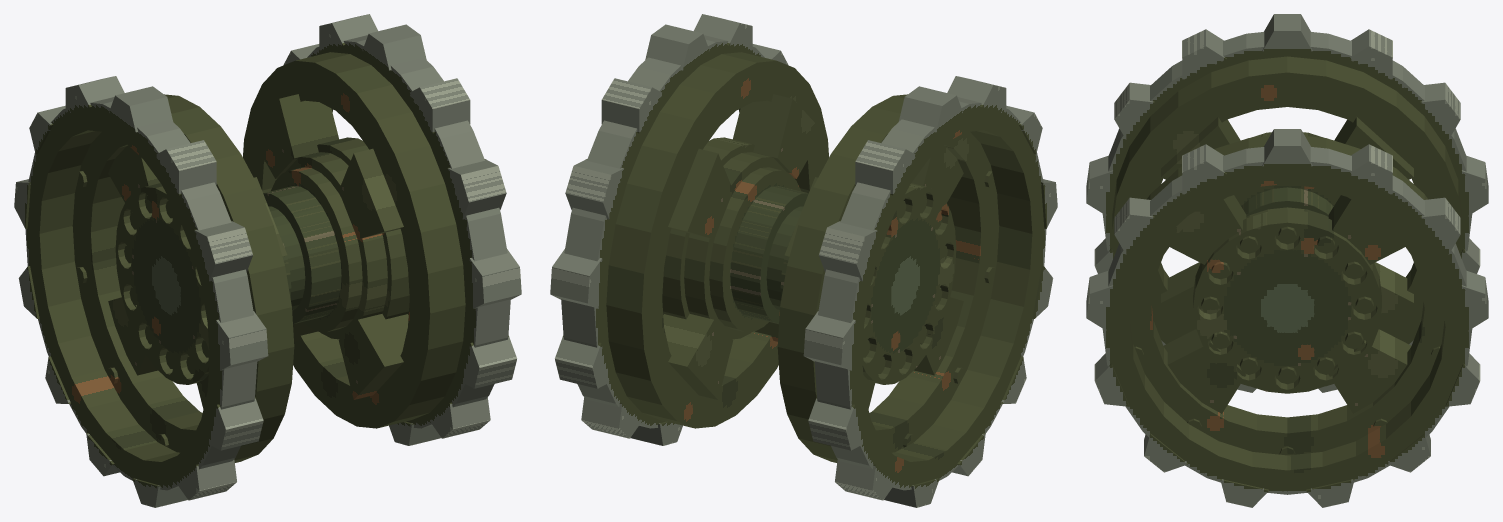
Rendered from sprocket.glb.
3 renders of one model, left to right at view 1: azimuth 30°, elevation 25°; view 2: azimuth 150°, elevation 25°; view 3: azimuth 270°, elevation 25°, orthographic. The views are drawn at different scales.
Parts seen in each view (by area): view 1: tooth_rim_in, flange_out, flange_in, teeth_in, teeth_out, hub_in_stack, hub_out_stack, spokes_out, tooth_rim_out, inner_collar_out, spokes_in, center_waist (+1 smaller); view 2: tooth_rim_in, flange_out, flange_in, teeth_in, teeth_out, hub_in_stack, hub_out_stack, spokes_out, tooth_rim_out, inner_collar_out, spokes_in, center_waist (+1 smaller); view 3: tooth_rim_out, hub_out_stack, flange_in, flange_out, teeth_out, spokes_out, teeth_in, tooth_rim_in, spokes_in, hub_in_stack, flange_out_bolts.
Boxes of the visible parts, bbox=[...] form: tooth_rim_in: bbox=[25, 97, 257, 490]; flange_out: bbox=[243, 52, 465, 428]; flange_in: bbox=[72, 94, 294, 462]; teeth_in: bbox=[14, 76, 268, 507]; teeth_out: bbox=[283, 14, 521, 445]; hub_in_stack: bbox=[115, 183, 305, 384]; hub_out_stack: bbox=[263, 137, 409, 332]; spokes_out: bbox=[248, 94, 408, 399]; tooth_rim_out: bbox=[307, 35, 510, 428]; inner_collar_out: bbox=[285, 152, 387, 339]; spokes_in: bbox=[108, 145, 287, 408]; center_waist: bbox=[268, 206, 304, 309]; tooth_rim_in: bbox=[814, 97, 1046, 490]; flange_out: bbox=[606, 52, 828, 428]; flange_in: bbox=[777, 94, 999, 462]; teeth_in: bbox=[803, 76, 1057, 507]; teeth_out: bbox=[550, 14, 788, 445]; hub_in_stack: bbox=[767, 183, 956, 384]; hub_out_stack: bbox=[662, 137, 808, 332]; spokes_out: bbox=[663, 94, 823, 399]; tooth_rim_out: bbox=[561, 35, 764, 428]; inner_collar_out: bbox=[684, 152, 786, 339]; spokes_in: bbox=[784, 145, 963, 408]; center_waist: bbox=[766, 208, 802, 308]; tooth_rim_out: bbox=[1102, 147, 1472, 494]; hub_out_stack: bbox=[1193, 210, 1381, 393]; flange_in: bbox=[1112, 56, 1462, 386]; flange_out: bbox=[1130, 136, 1444, 454]; teeth_out: bbox=[1086, 129, 1488, 507]; spokes_out: bbox=[1163, 195, 1411, 413]; teeth_in: bbox=[1086, 14, 1488, 392]; tooth_rim_in: bbox=[1102, 32, 1472, 254]; spokes_in: bbox=[1161, 117, 1413, 330]; hub_in_stack: bbox=[1234, 132, 1340, 216]; flange_out_bolts: bbox=[1134, 346, 1440, 455].
Bounding box in the file's own units: 0.51 × 0.6517 × 0.6565.
Materials: 1 (1 with a texture image).
